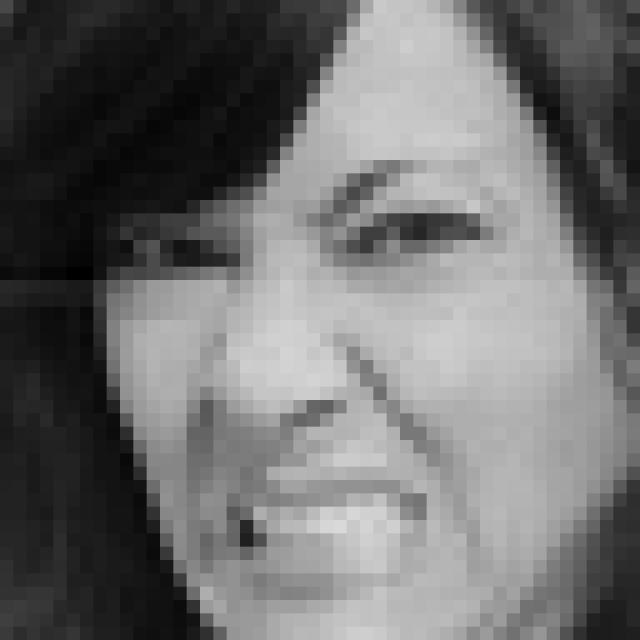disgust: (116, 149, 513, 610)
